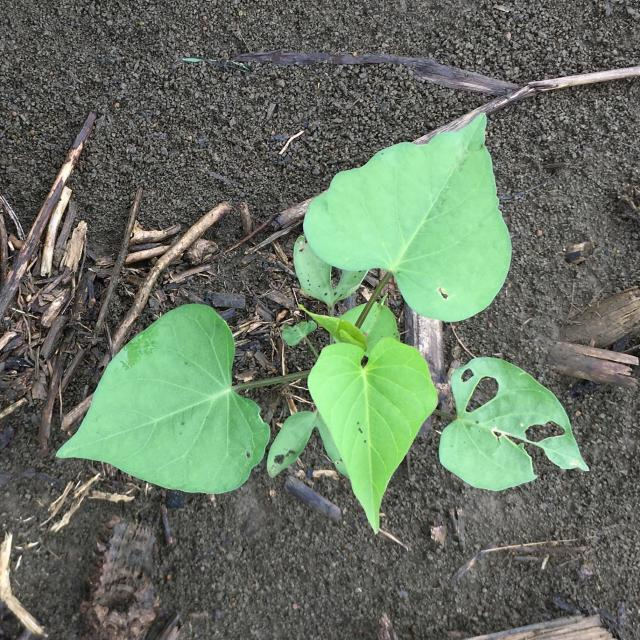MorningGlory: (56, 112, 589, 532)
